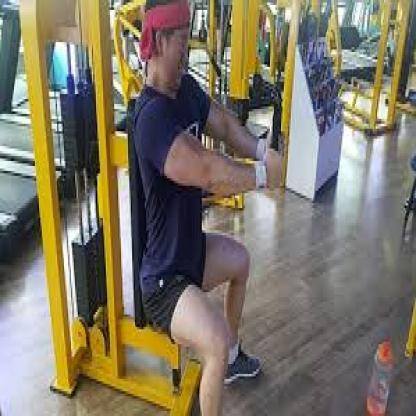chest fly machine: (23, 0, 299, 416)
